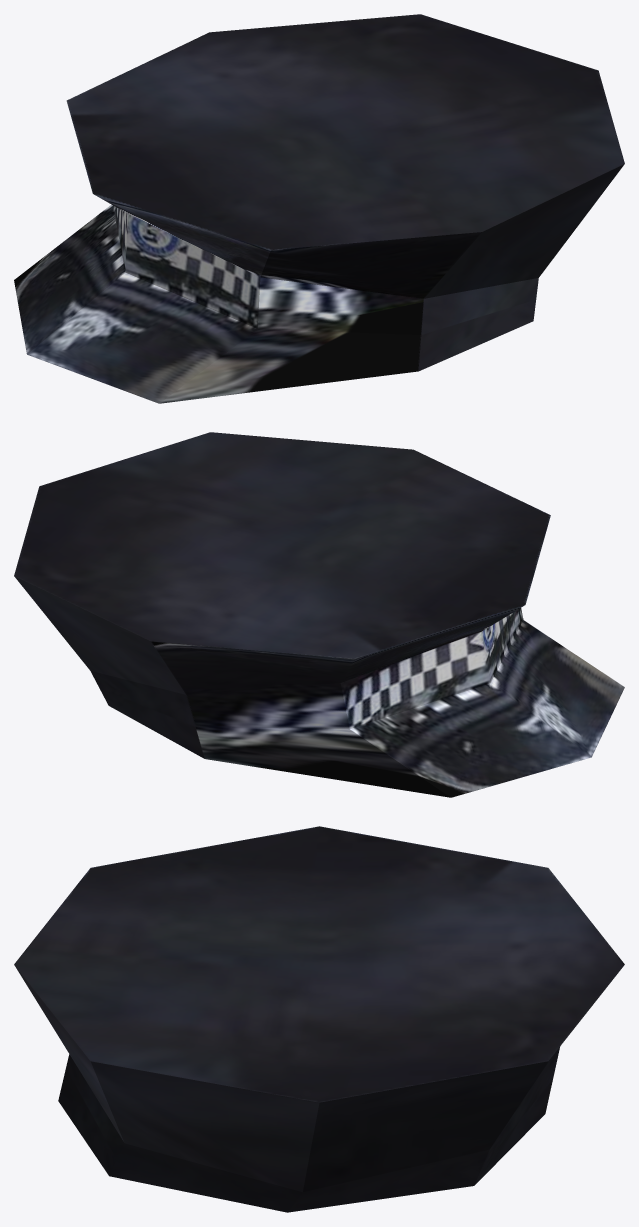
The model's file is hat.fbx.
3 views of the same model, one above another, from view 1: azimuth 30°, elevation 25°; view 2: azimuth 150°, elevation 25°; view 3: azimuth 270°, elevation 25° (orthographic). The views are drawn at different scales.
Visible parts, largest first — view 1: Cube; view 2: Cube; view 3: Cube.
Part boxes in pixels (x1,y1,x2,y2): Cube: [14, 14, 624, 403]; Cube: [14, 432, 624, 797]; Cube: [14, 826, 624, 1212].
Size of the model in its own units: 45.81 by 10.94 by 37.77.
1 material, 1 textured.
